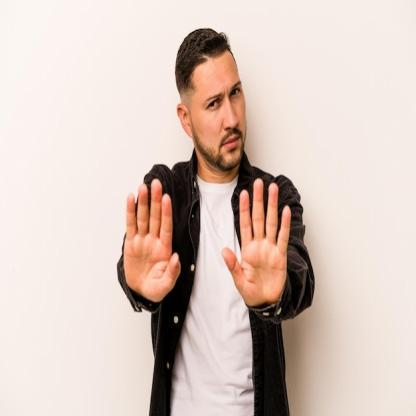stop: (224, 175, 294, 316), (120, 180, 182, 304)
